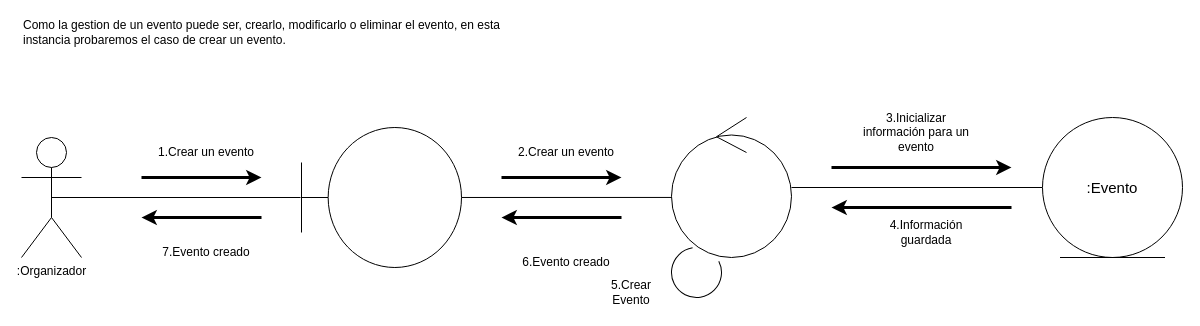
This 1200x326 diagram has some shape labels left out. Each missing label, with the centre of its shape:
":Gestion Evento" belongs at point 731,187.
":PantallaEvento" belongs at point 381,197.
